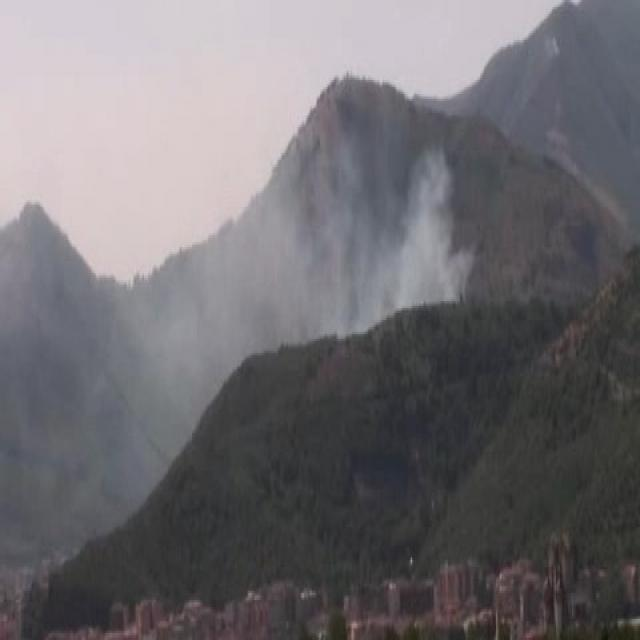smoke: (283, 148, 475, 315), (32, 281, 197, 447)
